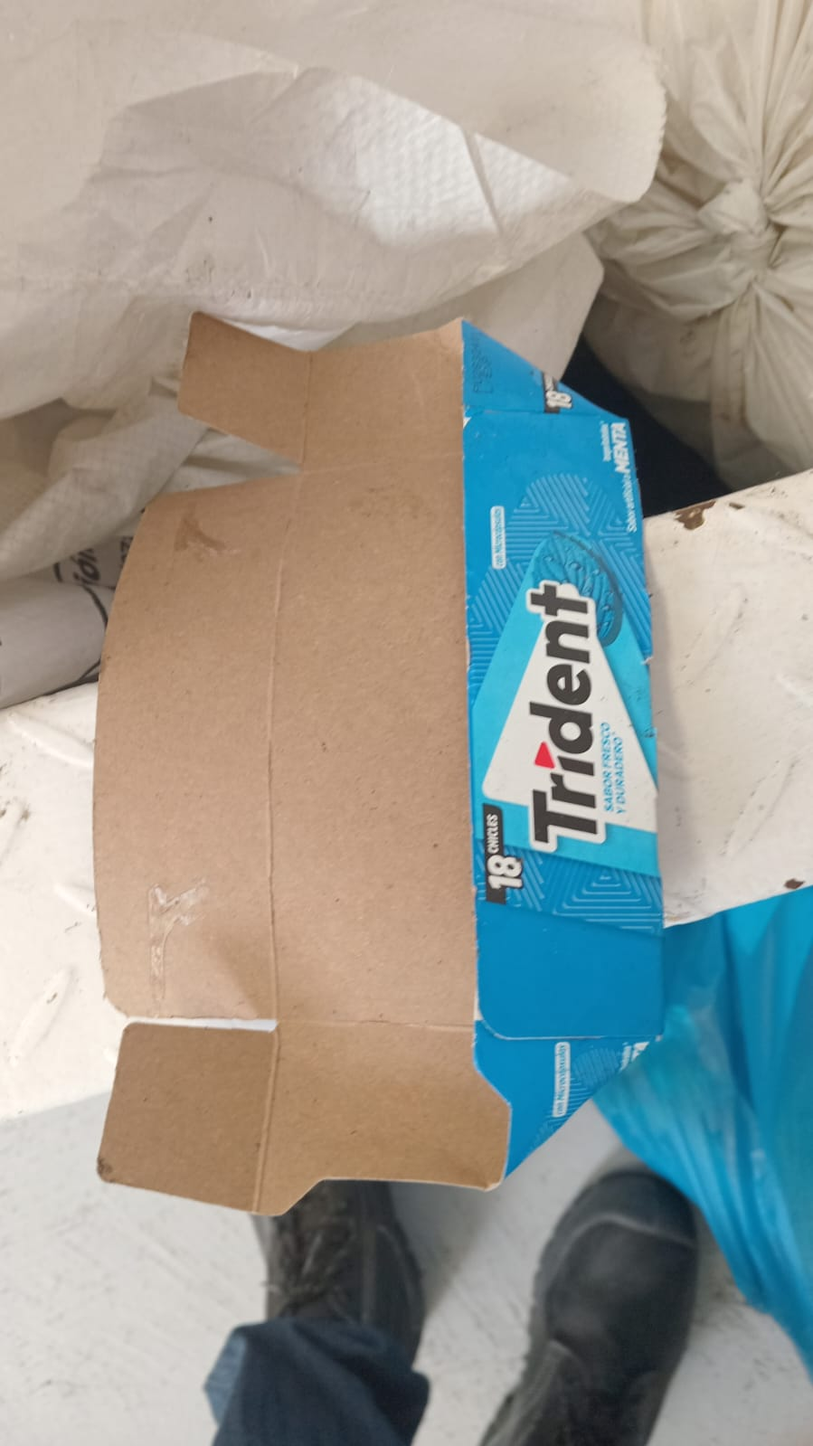Carton: (93, 309, 670, 1220)
